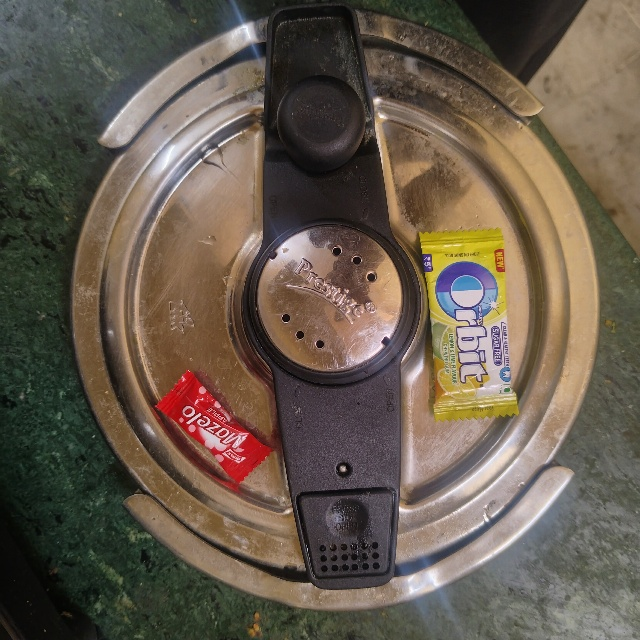Mazelo: (185, 371, 303, 427)
Orbit: (414, 237, 508, 424)
